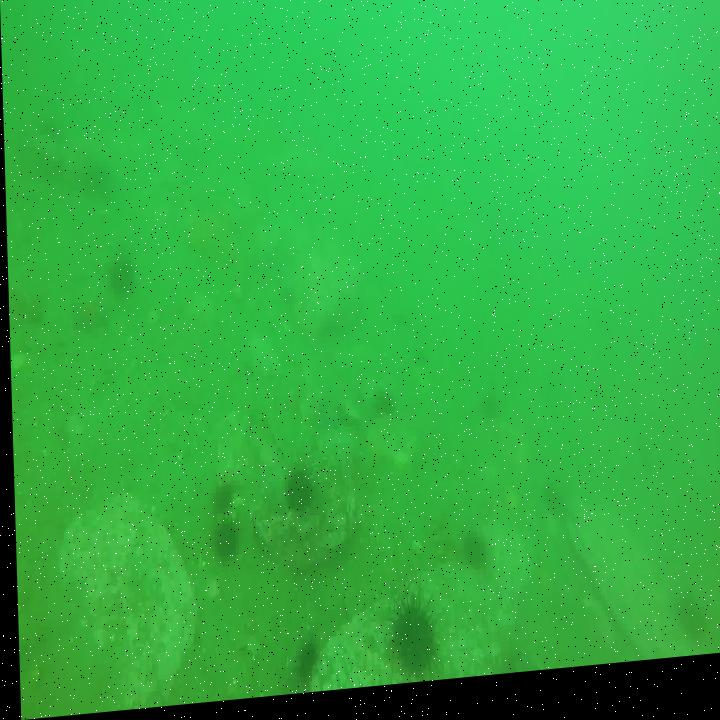echinus: (384, 599, 435, 682), (671, 606, 710, 667), (456, 533, 490, 580), (285, 646, 320, 689), (277, 470, 307, 517), (107, 254, 131, 302), (211, 527, 237, 562), (539, 491, 560, 532), (371, 395, 392, 428), (210, 486, 232, 516), (476, 403, 500, 430)
starfish: (70, 297, 110, 338)
